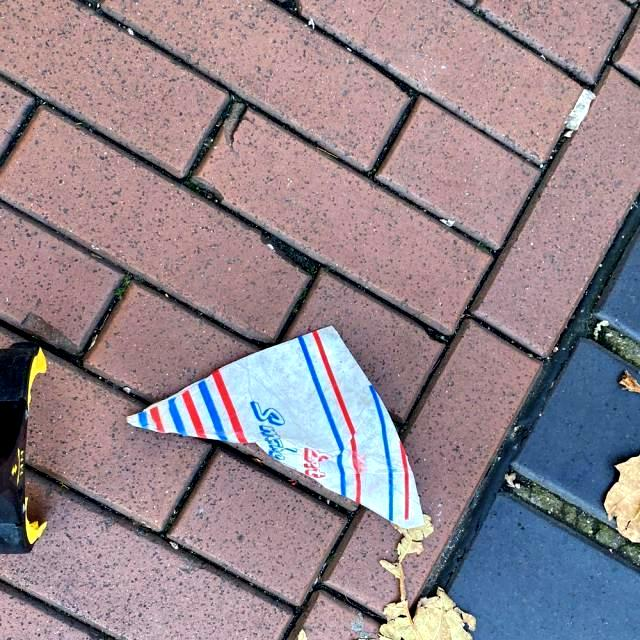Paper: (123, 322, 425, 530)
